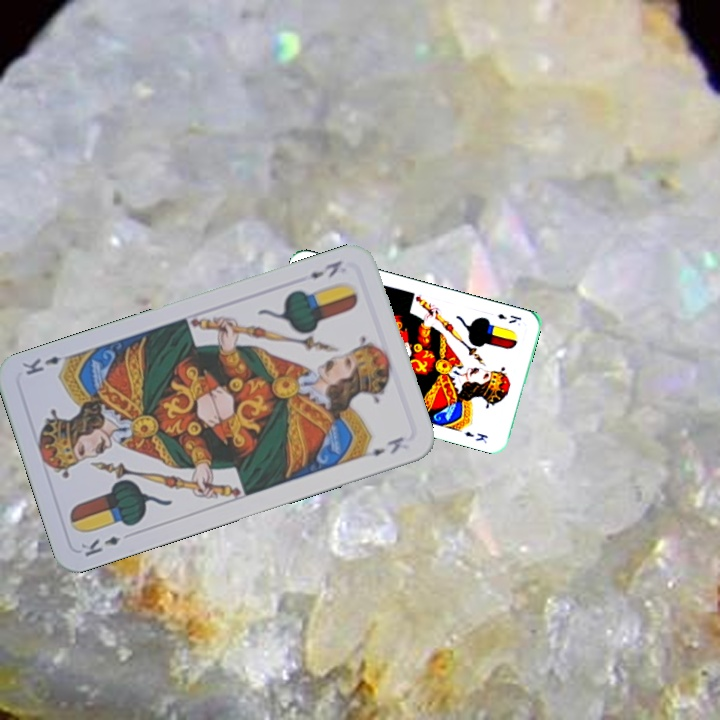EK: (77, 532, 123, 560), (305, 256, 345, 281), (493, 310, 524, 326)
